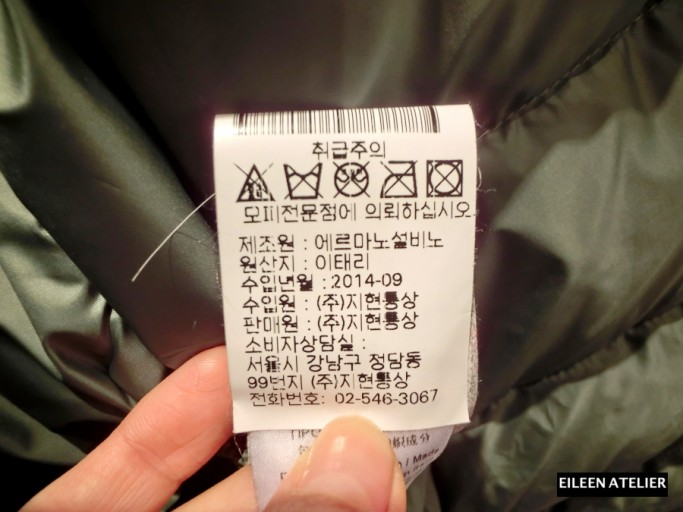KR_no_chlorine_bleach: (233, 163, 276, 206)
KR_no_dry_clean: (330, 162, 372, 198)
KR_no_iron: (378, 161, 419, 200)
KR_no_tumble_dry: (421, 157, 468, 201)
KR_no_wash: (281, 161, 326, 202)
